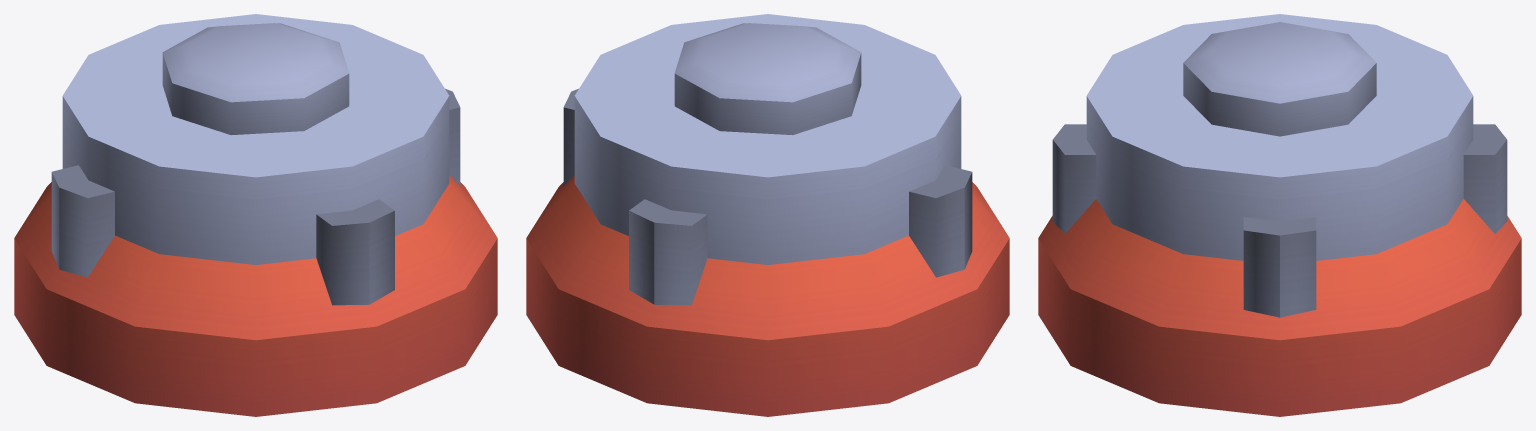
The model's file is tower-round-bottom-a.fbx.
3 views of the same model, side by side, from view 1: azimuth 30°, elevation 25°; view 2: azimuth 150°, elevation 25°; view 3: azimuth 270°, elevation 25° (orthographic).
Parts seen in each view (by area): view 1: tower-round-bottom-a; view 2: tower-round-bottom-a; view 3: tower-round-bottom-a.
Part boxes in pixels (box(x1,y1,x2,y2)): tower-round-bottom-a: box(14, 14, 497, 416); tower-round-bottom-a: box(526, 14, 1009, 416); tower-round-bottom-a: box(1038, 14, 1521, 416).
Size of the model in its own units: 100 by 60 by 100.
